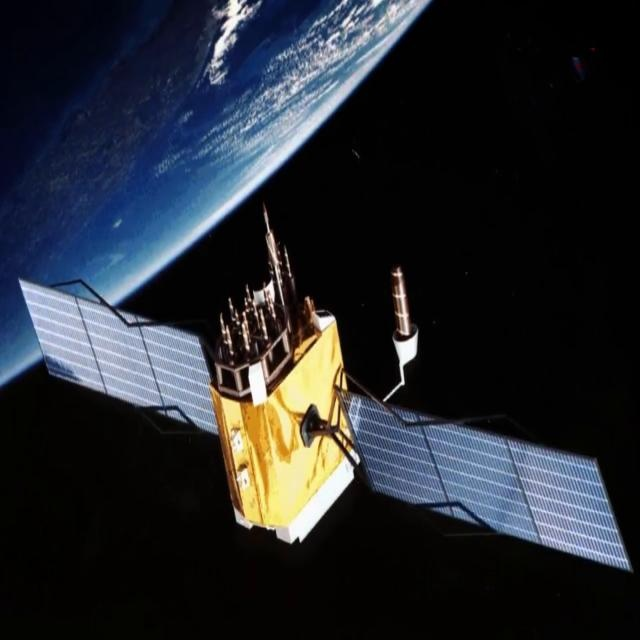medium_debris: (3, 200, 640, 584)
